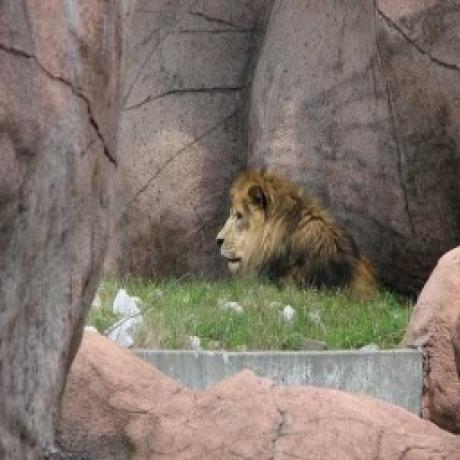Lion: (217, 167, 378, 294)
